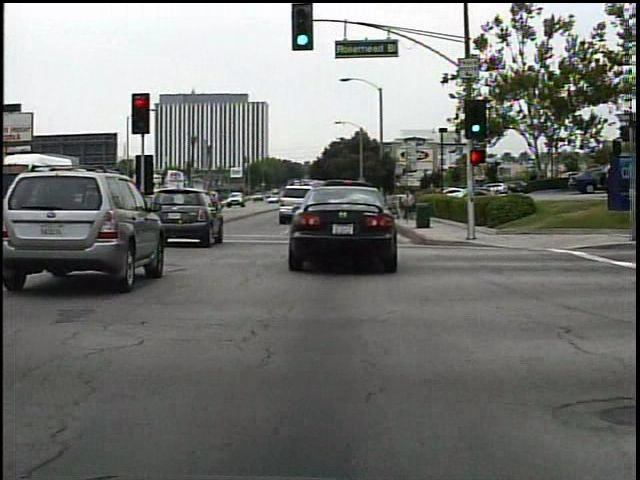person: (399, 187, 418, 224)
